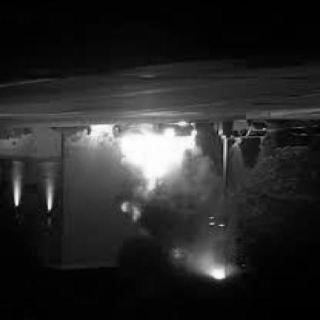Fire: (102, 118, 215, 222)
